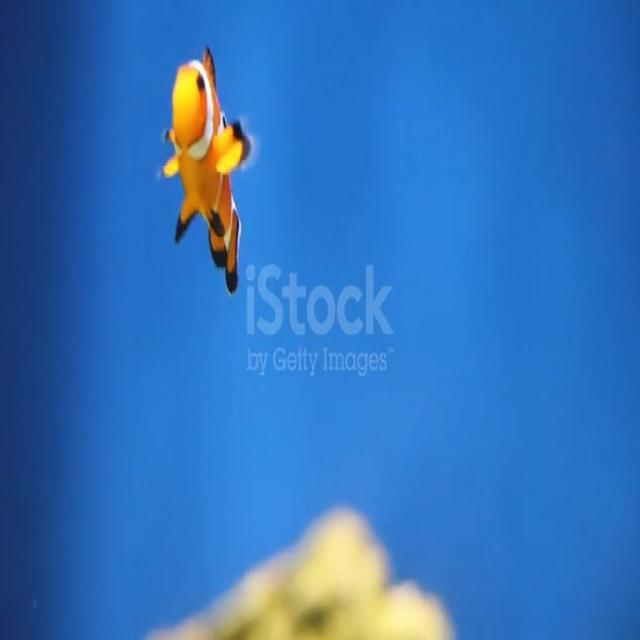fish: (160, 38, 252, 309)
